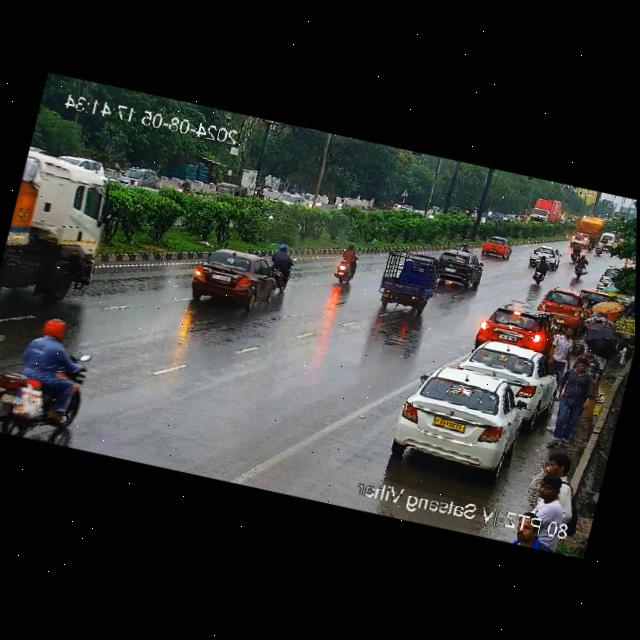car: (385, 355, 532, 480), (457, 334, 561, 418), (182, 242, 279, 317), (472, 299, 558, 362), (374, 247, 446, 317), (429, 244, 490, 295), (540, 282, 597, 328), (115, 162, 160, 192), (211, 177, 251, 207), (274, 185, 314, 212), (480, 234, 514, 261), (528, 241, 562, 267), (567, 230, 591, 248)
motorcycle: (0, 315, 93, 444), (257, 238, 306, 292), (329, 240, 366, 287), (0, 311, 15, 407), (530, 254, 550, 287), (570, 253, 589, 281), (568, 243, 583, 264)
person: (518, 449, 588, 535), (540, 350, 598, 446), (544, 323, 580, 373)
truck: (1, 144, 118, 289), (526, 195, 564, 229), (573, 212, 605, 236)
